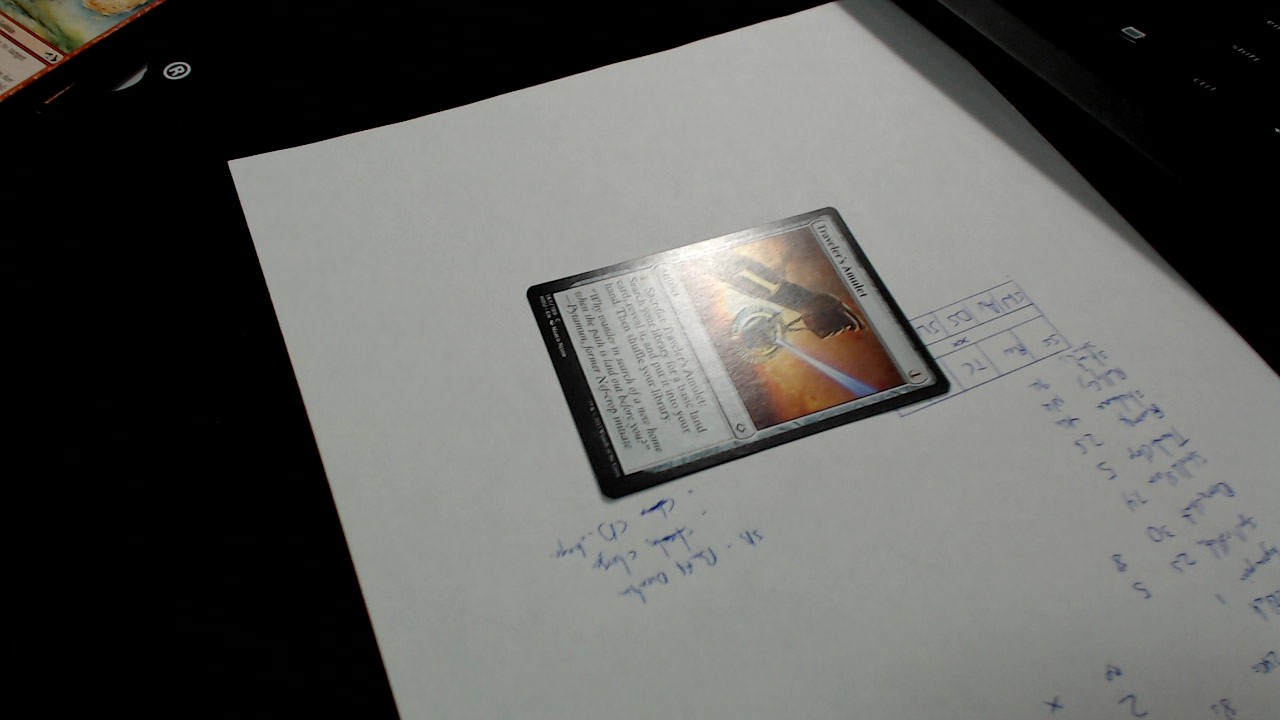MTG Card: (525, 201, 958, 505)
